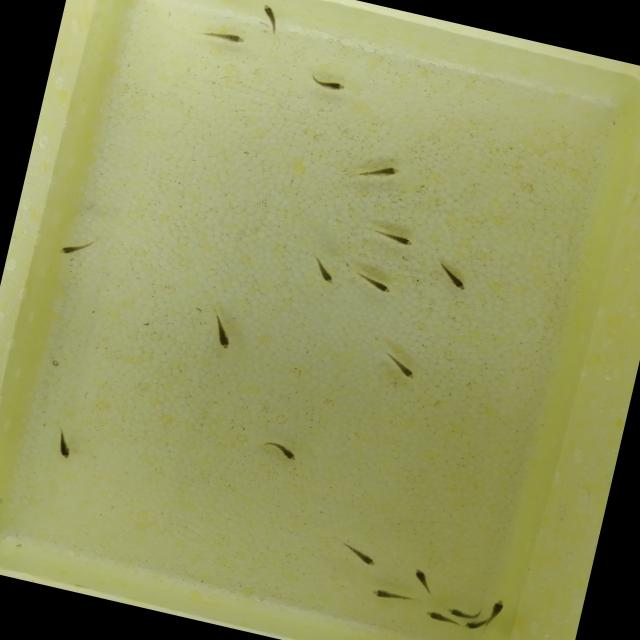fingerling: (354, 155, 409, 184), (358, 582, 410, 610), (432, 262, 475, 295), (368, 223, 418, 250), (201, 24, 251, 50), (338, 541, 382, 569), (48, 424, 78, 462), (356, 272, 399, 298), (208, 317, 239, 353), (311, 257, 342, 288), (54, 234, 94, 258), (306, 74, 348, 96), (382, 356, 420, 380), (254, 0, 282, 32), (262, 439, 300, 462), (442, 602, 481, 622), (411, 567, 437, 596), (481, 595, 507, 621), (417, 609, 448, 626), (462, 618, 481, 630)
